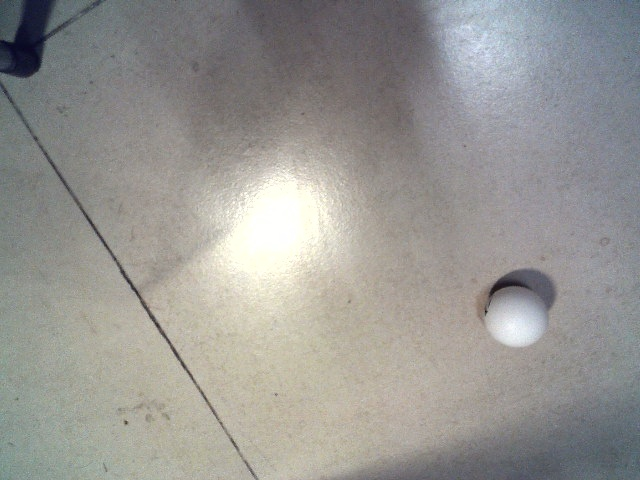pingpong: (483, 285, 550, 349)
